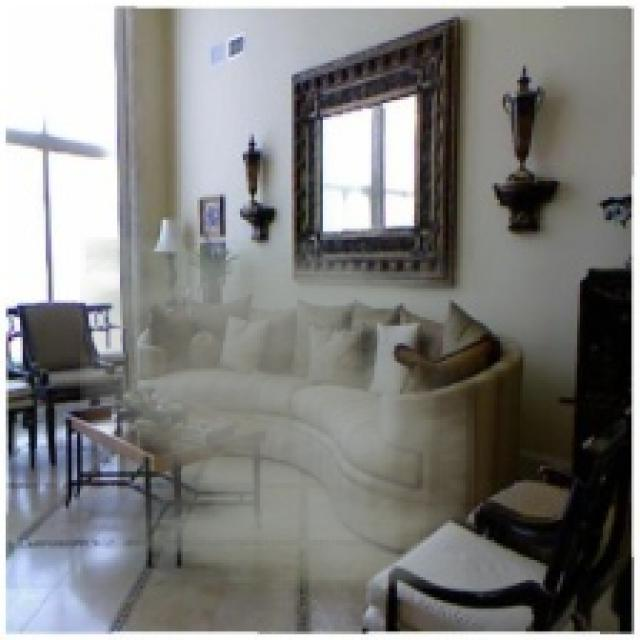Smoke: (80, 237, 474, 589)
